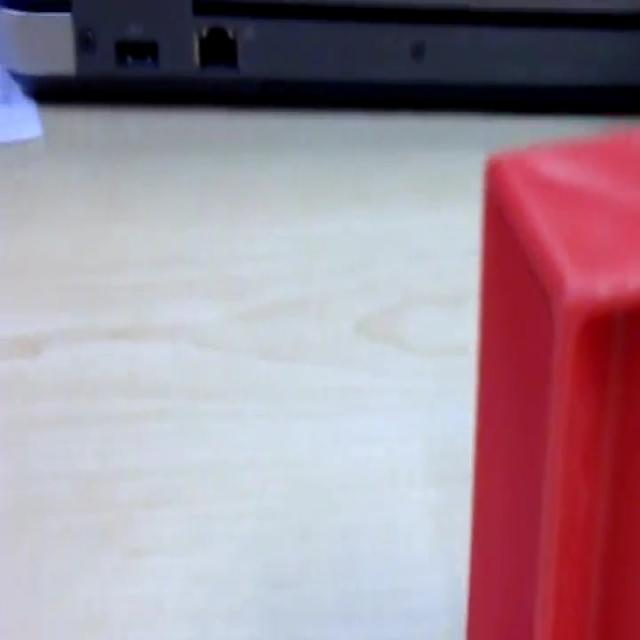red_block: (464, 124, 638, 636)
